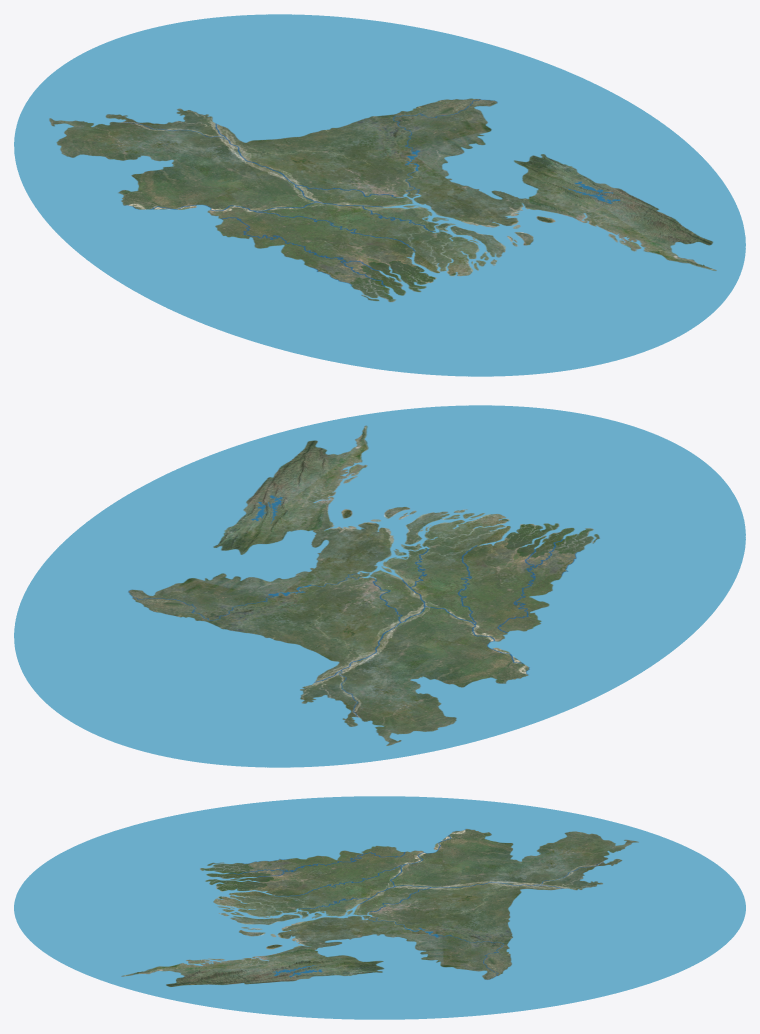
The model's file is BGD-previa-terrain.glb.
The picture shows the model from 3 angles, top to bottom: view 1: azimuth 30°, elevation 25°; view 2: azimuth 150°, elevation 25°; view 3: azimuth 270°, elevation 25°; orthographic projection. The views are drawn at different scales.
Visible parts, largest first — view 1: Bangladesh; view 2: Bangladesh; view 3: Bangladesh.
Part boxes in pixels (x1,y1,x2,y2): Bangladesh: [14, 14, 745, 376]; Bangladesh: [14, 405, 745, 767]; Bangladesh: [14, 796, 745, 1019].
Bounding box in the file's own units: 1.79 × 0.0182 × 2.48.
Materials: 1 (1 with a texture image).
